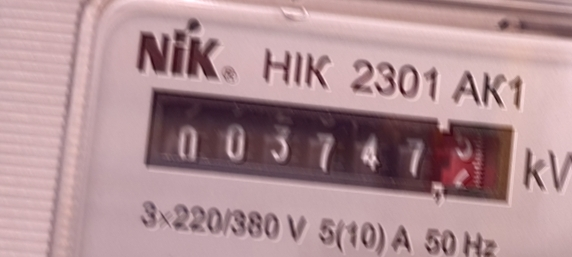0: (224, 122, 248, 163), (177, 125, 202, 161)
3: (271, 125, 293, 163)
4: (359, 132, 383, 173)
5: (454, 132, 476, 162)
6: (452, 167, 472, 190)
7: (403, 136, 428, 178), (314, 132, 337, 173)
screen: (135, 78, 532, 220)
